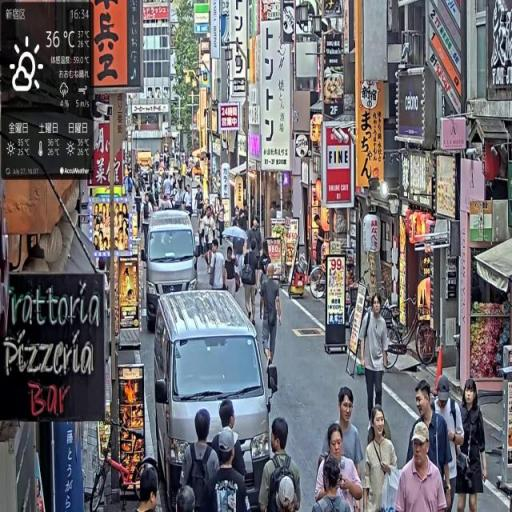person: (394, 422, 452, 512), (434, 373, 467, 511), (359, 295, 391, 435), (455, 377, 488, 512), (179, 406, 220, 512), (258, 418, 302, 512), (316, 428, 364, 512), (207, 429, 251, 512), (366, 408, 399, 512), (260, 263, 283, 371), (241, 243, 260, 325), (209, 240, 227, 292)
